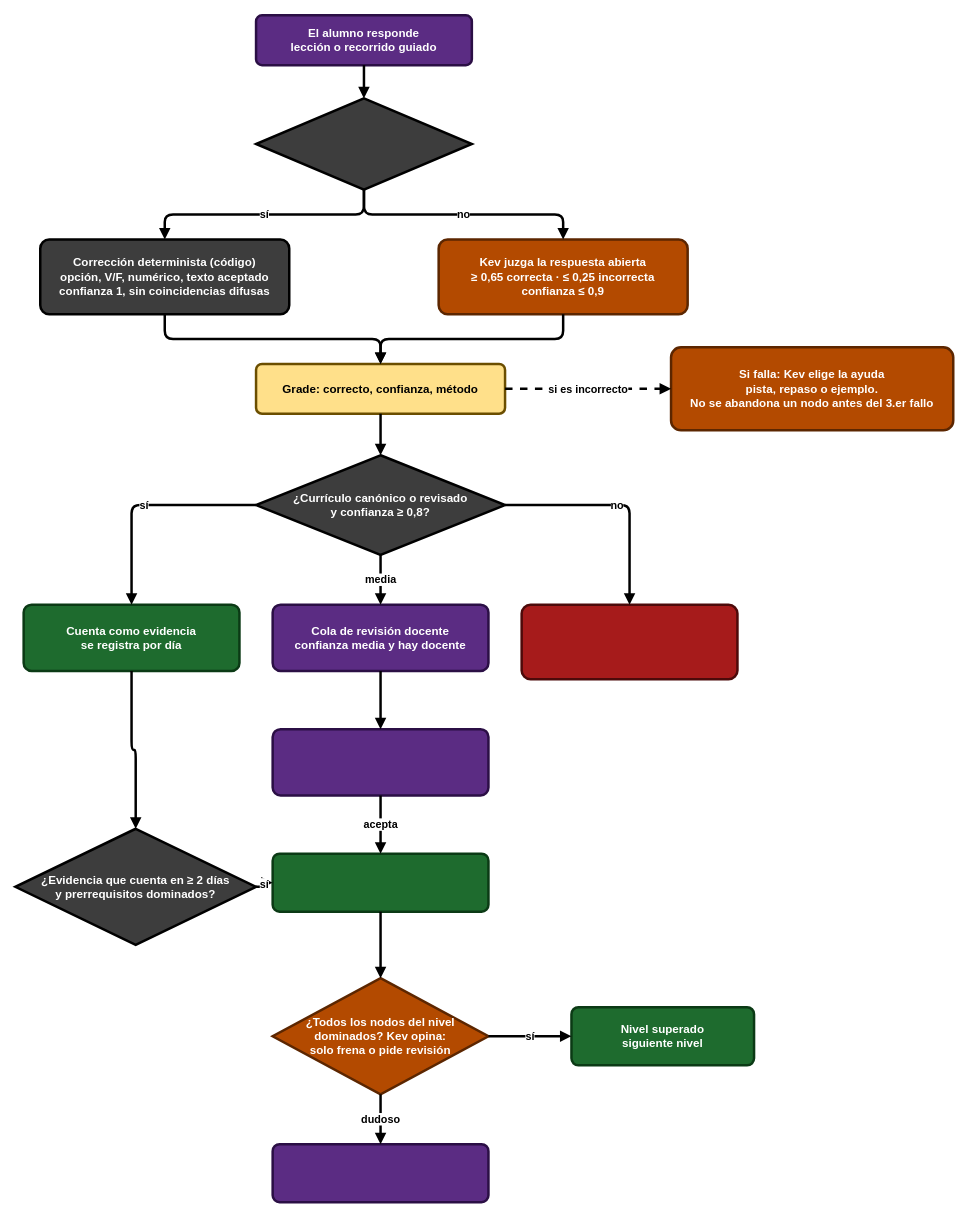
The diagram is 969 pixels wide and 1218 high, and some of its shapes have lost their labels. The shapes that lost their labels are listed below. From the top down, each one's centre as x and y in pixels, then its label:
At point 363,143: "¿El nodo tiene clave de respuesta?".
At point 629,641: "Autodeclarado currículo sin revisar o sin docente: nunca acredita".
At point 380,761: "El docente acepta con evidencia (≥ 20 caracteres) o rechaza".
At point 380,882: "Dominio del nodo masterByEvidence".
At point 380,1172: "Revisión docente de nivel hl_level_reviews".
